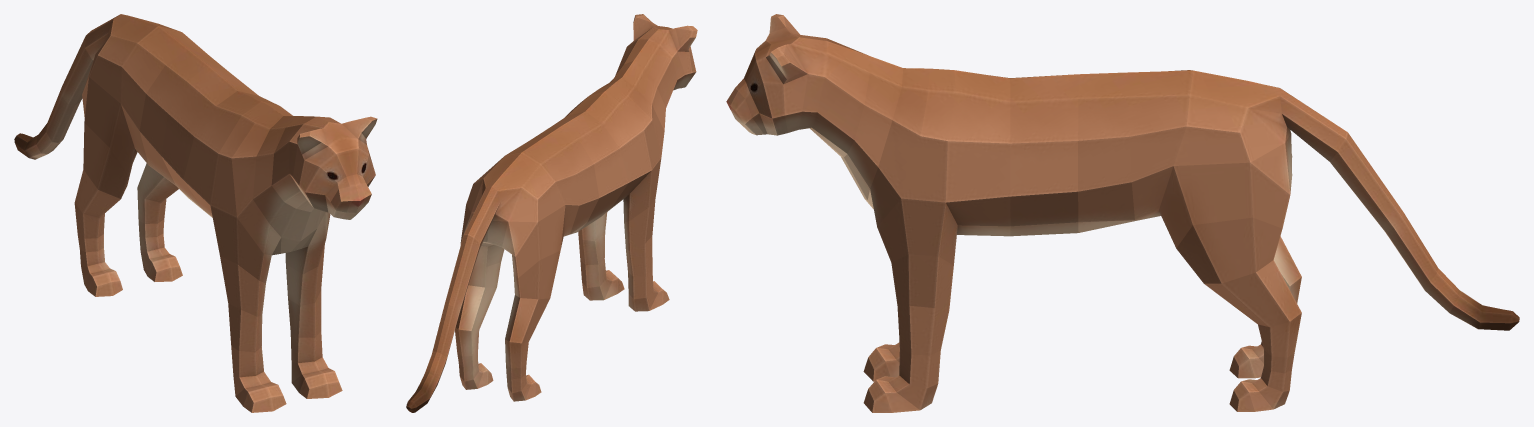
The model's file is puma.glb.
The picture shows the model from 3 angles, left to right: view 1: azimuth 30°, elevation 25°; view 2: azimuth 150°, elevation 25°; view 3: azimuth 270°, elevation 25°; orthographic projection. The views are drawn at different scales.
Parts seen in each view (by area): view 1: Cougar_mesh; view 2: Cougar_mesh; view 3: Cougar_mesh.
Boxes of the visible parts, left/top/right/bottom form: Cougar_mesh: left=14, top=14, right=377, bottom=412; Cougar_mesh: left=406, top=14, right=697, bottom=412; Cougar_mesh: left=726, top=14, right=1519, bottom=412.
Bounding box in the file's own units: 2.33 × 6.2 × 12.56.
1 material, 1 textured.
